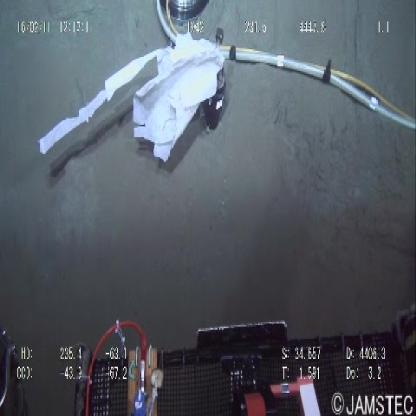Rov: (69, 314, 416, 414)
Rác: (34, 34, 230, 172)
